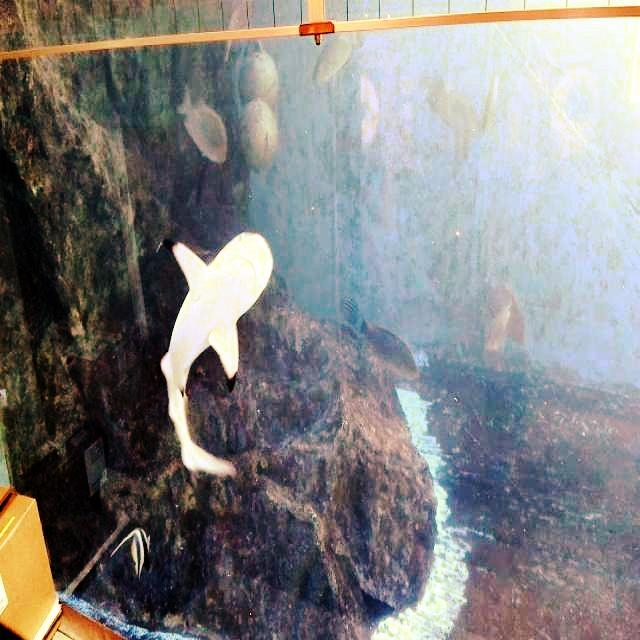Plectorhinchus lessonii: (338, 280, 364, 335)
angelfish: (110, 512, 157, 584)
gold snapper: (172, 77, 234, 175), (306, 21, 371, 96)
shark: (146, 216, 291, 507)
